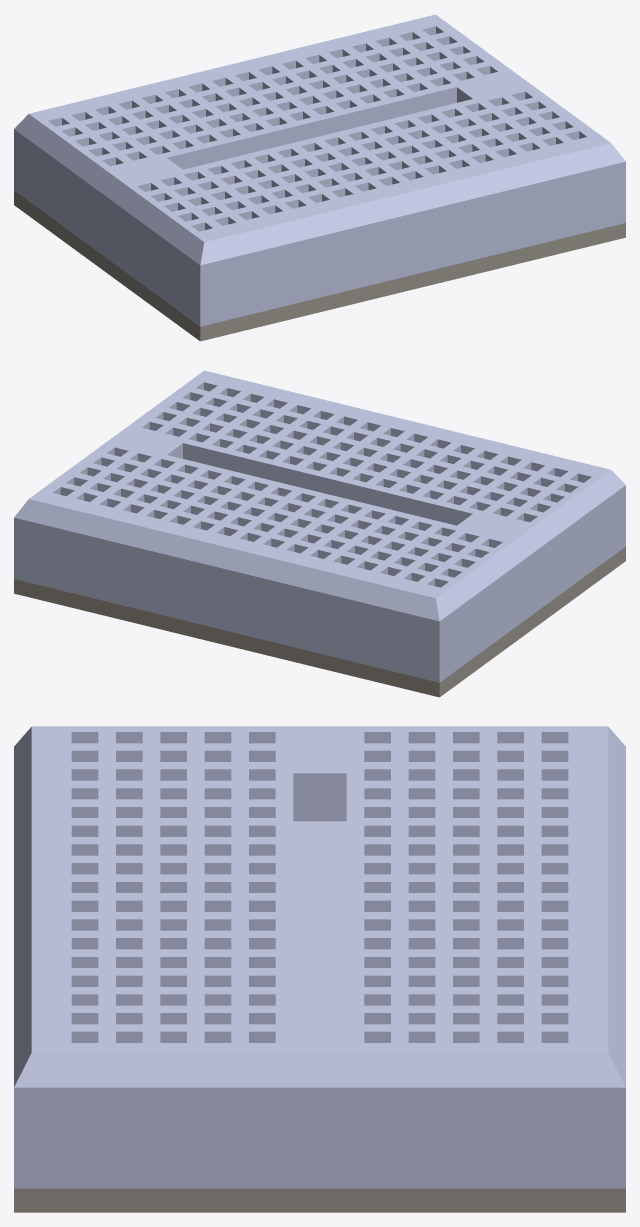
Rendered from protoboard.dae.
The picture shows the model from 3 angles, top to bottom: view 1: azimuth 30°, elevation 25°; view 2: azimuth 150°, elevation 25°; view 3: azimuth 270°, elevation 25°; orthographic projection. The views are drawn at different scales.
Visible parts, largest first — view 1: node_a9045c88_4ced_4253_a327_35feb9c96e25_mesh0, node_23acf959_9bb6_4424_adec_6093252c641a_mesh0; view 2: node_a9045c88_4ced_4253_a327_35feb9c96e25_mesh0, node_23acf959_9bb6_4424_adec_6093252c641a_mesh0; view 3: node_a9045c88_4ced_4253_a327_35feb9c96e25_mesh0, node_23acf959_9bb6_4424_adec_6093252c641a_mesh0.
Part boxes in pixels (x1,y1,x2,y2): node_a9045c88_4ced_4253_a327_35feb9c96e25_mesh0: (14, 14, 625, 326); node_23acf959_9bb6_4424_adec_6093252c641a_mesh0: (14, 190, 625, 341); node_a9045c88_4ced_4253_a327_35feb9c96e25_mesh0: (14, 370, 625, 682); node_23acf959_9bb6_4424_adec_6093252c641a_mesh0: (14, 546, 625, 697); node_a9045c88_4ced_4253_a327_35feb9c96e25_mesh0: (14, 726, 625, 1188); node_23acf959_9bb6_4424_adec_6093252c641a_mesh0: (14, 1188, 625, 1212).
Size of the model in its own units: 0.0455 by 0.0095 by 0.0345.
